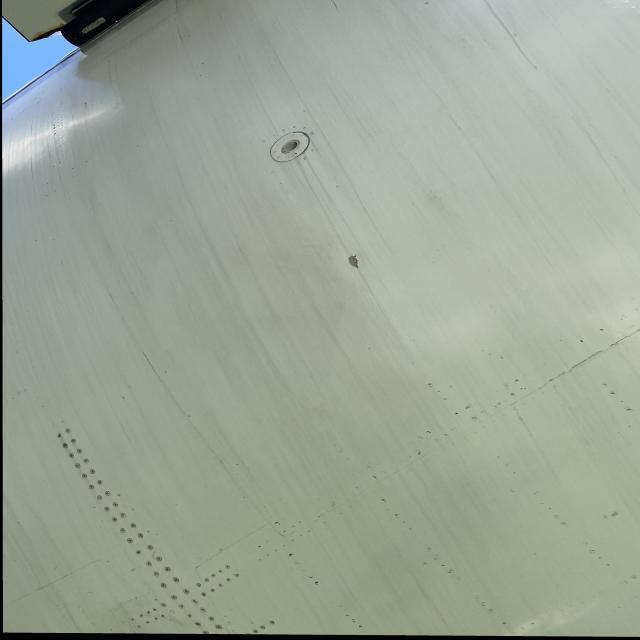crack: (144, 348, 164, 371), (344, 256, 357, 271)
